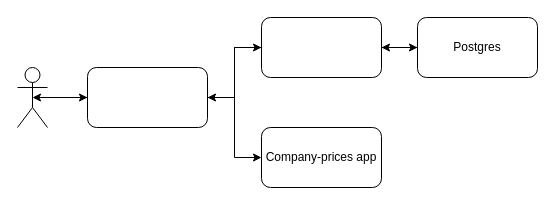
Image size: 555x205. Some labels were removed from this diagram. The centre of each missing label's shape, as x and y in pixels:
Company-info app: (x=321, y=47)
Entrypoint app: (x=147, y=97)
